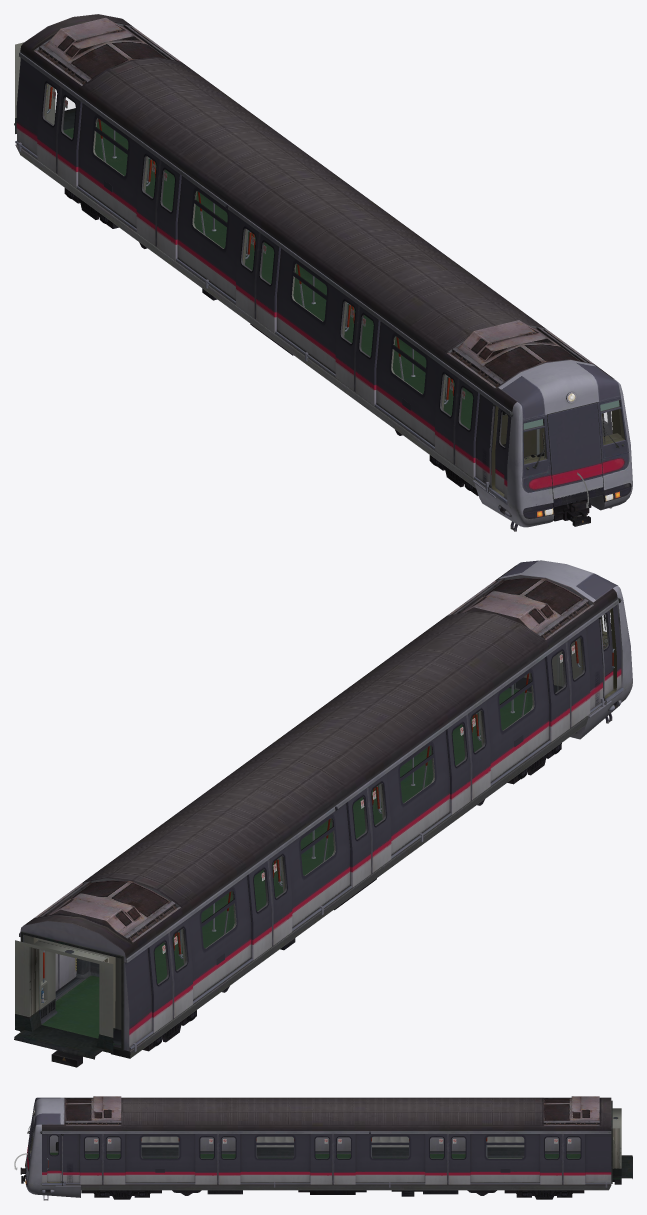
Rendered from train.glb.
3 views of the same model, one above another, from view 1: azimuth 30°, elevation 25°; view 2: azimuth 150°, elevation 25°; view 3: azimuth 270°, elevation 25° (orthographic). The views are drawn at different scales.
Visible parts, largest first — view 1: T_MRTIsland_BodyEXT_T_MRTIsland_BodyEXT_02_0_177, T_MRTIsland_BodyEXT_T_MRTIsland_BodyEXT_01_0_176, T_MRTIsland_BodyINT_T_MRTIsland_BodyINT_03_0_180, T_MRTIsland_Escape_Door01_T_MRTIsland_Escape_Door01_02_0_350, T_MRTIsland_BodyINT_T_MRTIsland_BodyINT_01_0_178, T_MRTIsland_DoorAutoR05_T_MRTIsland_DoorAutoR02_01_0_138, T_MRTIsland_DoorAutoR09_T_MRTIsland_DoorAutoR02_01_0_96, T_MRTIsland_DoorAutoR07_T_MRTIsland_DoorAutoR02_01_0_150, T_MRTIsland_DoorAutoR03_T_MRTIsland_DoorAutoR02_01_0_126, T_MRTIsland_DoorAutoR01_T_MRTIsland_DoorAutoR02_01_0_108, T_MRTIsland_DoorAutoR08_T_MRTIsland_DoorAutoR02_01_0_144, T_MRTIsland_DoorAutoR10_T_MRTIsland_DoorAutoR02_01_0_102 (+5 smaller); view 2: T_MRTIsland_BodyEXT_T_MRTIsland_BodyEXT_02_0_177, T_MRTIsland_BodyEXT_T_MRTIsland_BodyEXT_01_0_176, T_MRTIsland_BodyINT_T_MRTIsland_BodyINT_01_0_178, T_MRTIsland_BodyINT_T_MRTIsland_BodyINT_03_0_180, T_MRTIsland_DoorAutoR08_T_MRTIsland_DoorAutoR02_01_0_144, T_MRTIsland_DoorAutoR10_T_MRTIsland_DoorAutoR02_01_0_102, T_MRTIsland_DoorAutoR04_T_MRTIsland_DoorAutoR02_01_0_120, T_MRTIsland_DoorAutoR06_T_MRTIsland_DoorAutoR02_01_0_132, T_MRTIsland_DoorAutoR02_T_MRTIsland_DoorAutoR02_01_0_114, T_MRTIsland_DoorAutoR07_T_MRTIsland_DoorAutoR02_01_0_150, T_MRTIsland_DoorAutoR01_T_MRTIsland_DoorAutoR02_01_0_108, T_MRTIsland_DoorAutoR09_T_MRTIsland_DoorAutoR02_01_0_96 (+3 smaller); view 3: T_MRTIsland_BodyEXT_T_MRTIsland_BodyEXT_02_0_177, T_MRTIsland_BodyEXT_T_MRTIsland_BodyEXT_01_0_176, T_MRTIsland_BodyINT_T_MRTIsland_BodyINT_01_0_178, T_MRTIsland_BodyINT_T_MRTIsland_BodyINT_06_0_183, T_MRTIsland_BodyINT_T_MRTIsland_BodyINT_03_0_180, T_MRTIsland_DoorAutoL03_T_MRTIsland_DoorAutoR02_01_0_72, T_MRTIsland_DoorAutoL10_T_MRTIsland_DoorAutoR02_01_0_42, T_MRTIsland_DoorAutoL08_T_MRTIsland_DoorAutoR02_01_0_54, T_MRTIsland_DoorAutoL05_T_MRTIsland_DoorAutoR02_01_0_60, T_MRTIsland_DoorAutoL04_T_MRTIsland_DoorAutoR02_01_0_78, T_MRTIsland_DoorAutoL02_T_MRTIsland_DoorAutoR02_01_0_84, T_MRTIsland_DoorAutoL09_T_MRTIsland_DoorAutoR02_01_0_36 (+14 smaller).
Boxes of the visible parts, x1,y1,x2,y2 form: T_MRTIsland_BodyEXT_T_MRTIsland_BodyEXT_02_0_177: (16, 14, 632, 527); T_MRTIsland_BodyEXT_T_MRTIsland_BodyEXT_01_0_176: (15, 17, 624, 531); T_MRTIsland_BodyINT_T_MRTIsland_BodyINT_03_0_180: (63, 121, 473, 429); T_MRTIsland_Escape_Door01_T_MRTIsland_Escape_Door01_02_0_350: (547, 402, 603, 499); T_MRTIsland_BodyINT_T_MRTIsland_BodyINT_01_0_178: (14, 42, 612, 444); T_MRTIsland_DoorAutoR05_T_MRTIsland_DoorAutoR02_01_0_138: (255, 233, 280, 332); T_MRTIsland_DoorAutoR09_T_MRTIsland_DoorAutoR02_01_0_96: (57, 87, 82, 187); T_MRTIsland_DoorAutoR07_T_MRTIsland_DoorAutoR02_01_0_150: (156, 160, 181, 260); T_MRTIsland_DoorAutoR03_T_MRTIsland_DoorAutoR02_01_0_126: (355, 306, 380, 405); T_MRTIsland_DoorAutoR01_T_MRTIsland_DoorAutoR02_01_0_108: (454, 378, 479, 478); T_MRTIsland_DoorAutoR08_T_MRTIsland_DoorAutoR02_01_0_144: (136, 146, 160, 245); T_MRTIsland_DoorAutoR10_T_MRTIsland_DoorAutoR02_01_0_102: (37, 73, 61, 173); T_MRTIsland_BodyEXT_T_MRTIsland_BodyEXT_02_0_177: (19, 560, 632, 1051); T_MRTIsland_BodyEXT_T_MRTIsland_BodyEXT_01_0_176: (19, 578, 623, 1067); T_MRTIsland_BodyINT_T_MRTIsland_BodyINT_01_0_178: (14, 638, 614, 1059); T_MRTIsland_BodyINT_T_MRTIsland_BodyINT_03_0_180: (42, 637, 607, 1045); T_MRTIsland_DoorAutoR08_T_MRTIsland_DoorAutoR02_01_0_144: (247, 860, 272, 960); T_MRTIsland_DoorAutoR10_T_MRTIsland_DoorAutoR02_01_0_102: (147, 933, 173, 1032); T_MRTIsland_DoorAutoR04_T_MRTIsland_DoorAutoR02_01_0_120: (445, 715, 471, 814); T_MRTIsland_DoorAutoR06_T_MRTIsland_DoorAutoR02_01_0_132: (346, 787, 371, 887); T_MRTIsland_DoorAutoR02_T_MRTIsland_DoorAutoR02_01_0_114: (545, 642, 570, 741); T_MRTIsland_DoorAutoR07_T_MRTIsland_DoorAutoR02_01_0_150: (268, 846, 292, 945); T_MRTIsland_DoorAutoR01_T_MRTIsland_DoorAutoR02_01_0_108: (566, 627, 590, 727); T_MRTIsland_DoorAutoR09_T_MRTIsland_DoorAutoR02_01_0_96: (169, 919, 192, 1018); T_MRTIsland_BodyEXT_T_MRTIsland_BodyEXT_02_0_177: (25, 1097, 612, 1199); T_MRTIsland_BodyEXT_T_MRTIsland_BodyEXT_01_0_176: (20, 1096, 621, 1200); T_MRTIsland_BodyINT_T_MRTIsland_BodyINT_01_0_178: (47, 1108, 632, 1178); T_MRTIsland_BodyINT_T_MRTIsland_BodyINT_06_0_183: (141, 1136, 524, 1147); T_MRTIsland_BodyINT_T_MRTIsland_BodyINT_03_0_180: (50, 1152, 621, 1179); T_MRTIsland_DoorAutoL03_T_MRTIsland_DoorAutoR02_01_0_72: (195, 1134, 217, 1184); T_MRTIsland_DoorAutoL10_T_MRTIsland_DoorAutoR02_01_0_42: (563, 1134, 585, 1184); T_MRTIsland_DoorAutoL08_T_MRTIsland_DoorAutoR02_01_0_54: (448, 1134, 470, 1184); T_MRTIsland_DoorAutoL05_T_MRTIsland_DoorAutoR02_01_0_60: (310, 1134, 332, 1184); T_MRTIsland_DoorAutoL04_T_MRTIsland_DoorAutoR02_01_0_78: (218, 1134, 240, 1184); T_MRTIsland_DoorAutoL02_T_MRTIsland_DoorAutoR02_01_0_84: (103, 1134, 125, 1184); T_MRTIsland_DoorAutoL09_T_MRTIsland_DoorAutoR02_01_0_36: (540, 1134, 562, 1184).
Bounding box in the file's own units: 44.12 × 53.1 × 345.
26 materials, 25 textured.
